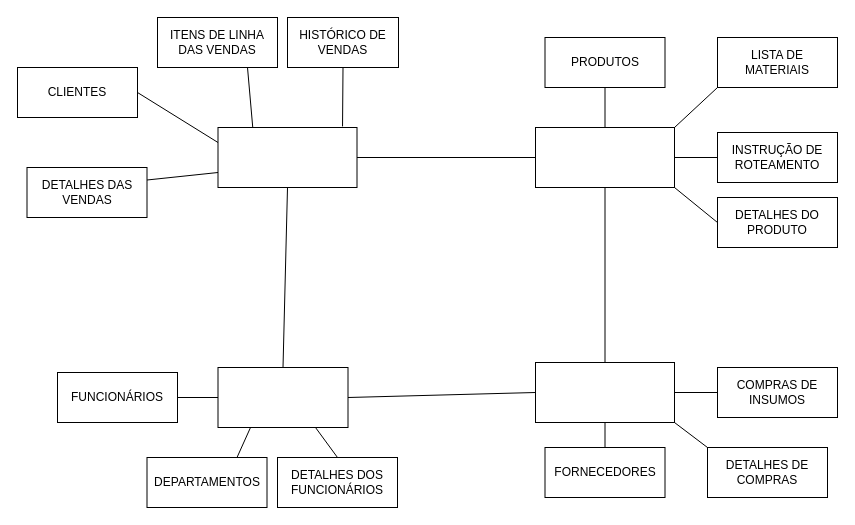
Some shapes in this 855 by 525 pixel diagram are drawn without their labels. Each missing label, with the centre of its shape:
"COMPRAS" goes at pixel 604 392.
"PRODUÇÃO" goes at pixel 604 157.
"RECURSOS HUMANOS" goes at pixel 282 397.
"VENDAS" goes at pixel 287 157.
